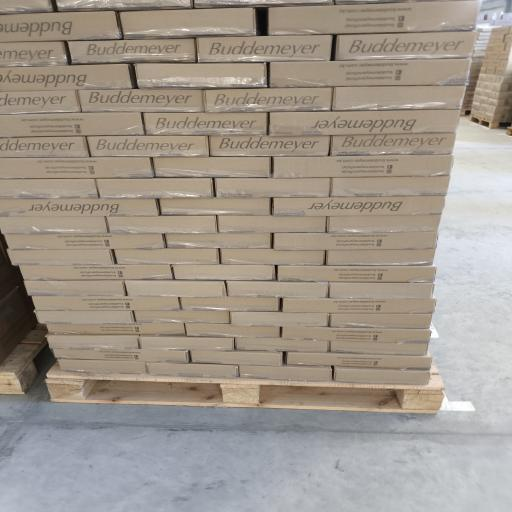pallet: (47, 363, 444, 413), (0, 330, 47, 394), (470, 114, 510, 128), (460, 109, 471, 117), (507, 127, 511, 135)
